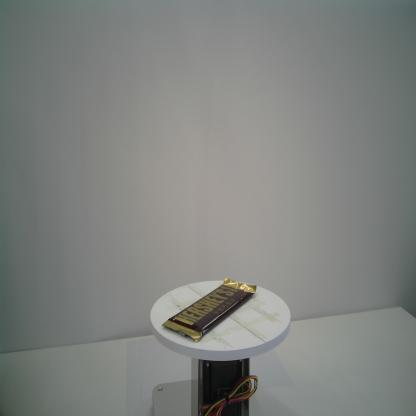Chocolate: (161, 277, 258, 344)
